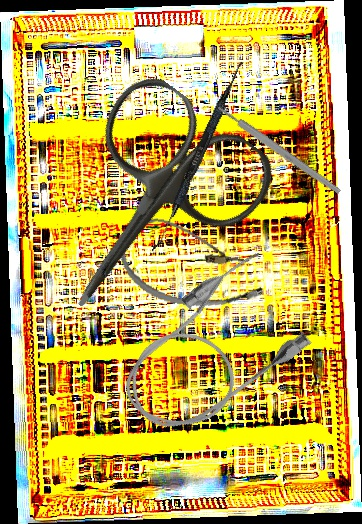Cannula: (99, 244, 323, 453), (113, 213, 272, 317)
Iris Scissors: (6, 64, 286, 357)
Scalpel Handle: (215, 103, 343, 196)
Spatula Surgical: (151, 58, 245, 256)
